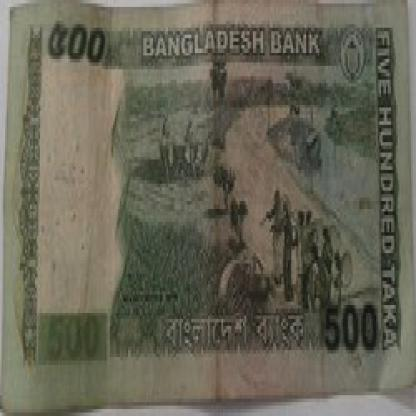500 taka: (42, 17, 124, 73)
currency: (7, 10, 414, 392)
